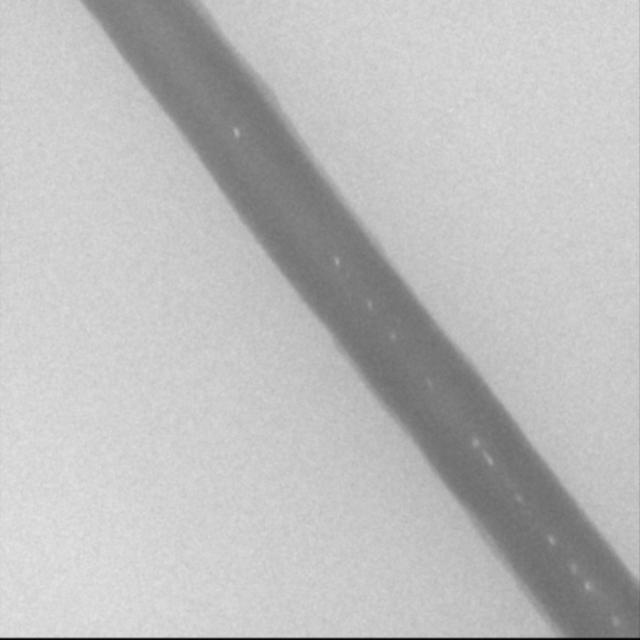air hole: (583, 578, 593, 592), (232, 125, 241, 140), (547, 533, 556, 547), (470, 437, 480, 449), (364, 297, 372, 310), (388, 330, 396, 343), (333, 256, 341, 268)
